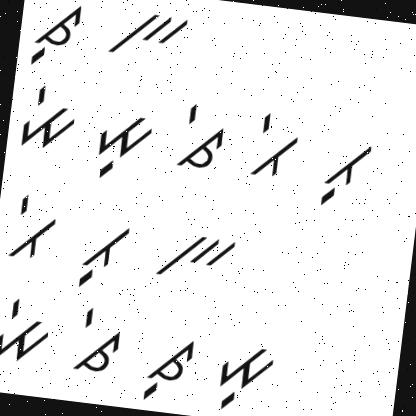be: (248, 107, 304, 189), (6, 189, 62, 268)
bu: (312, 132, 377, 214), (74, 216, 134, 294)
ce: (170, 96, 233, 180), (70, 302, 128, 378)
cu: (132, 328, 199, 405), (27, 0, 88, 72)
me: (15, 82, 83, 154), (0, 291, 57, 367)
mu: (207, 332, 282, 416), (88, 104, 160, 186)
